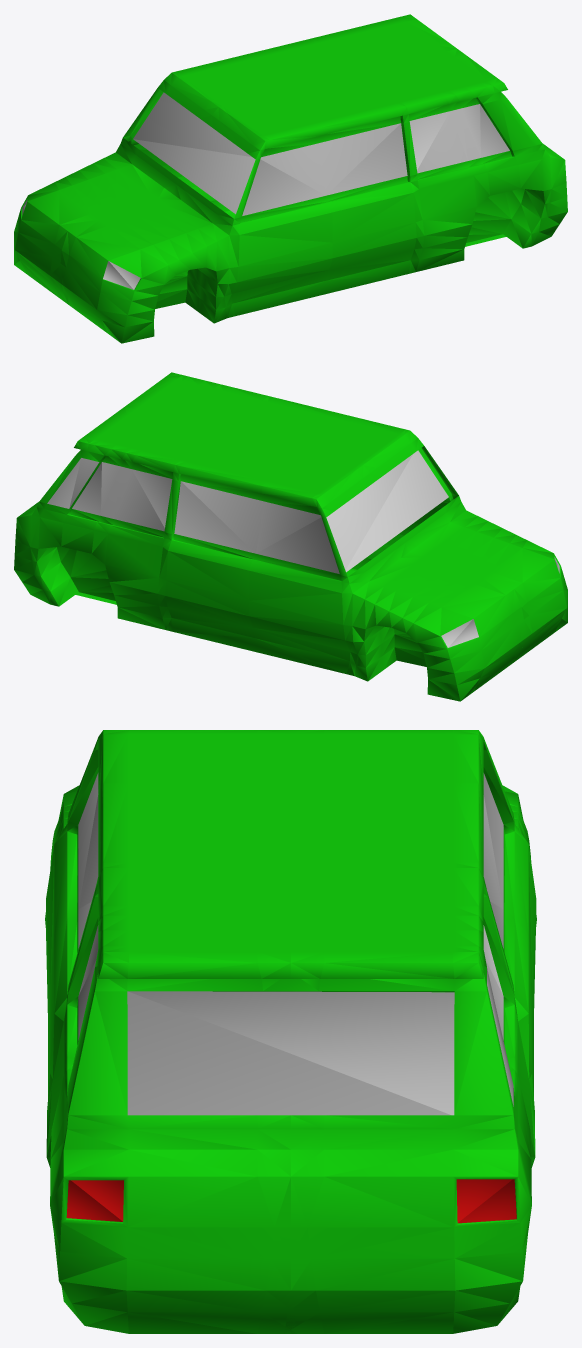
The model's file is voiture0.obj.
The picture shows the model from 3 angles, top to bottom: view 1: azimuth 30°, elevation 25°; view 2: azimuth 150°, elevation 25°; view 3: azimuth 270°, elevation 25°; orthographic projection. The views are drawn at different scales.
Visible parts, largest first — view 1: Cube; view 2: Cube; view 3: Cube.
Boxes of the visible parts, x1,y1,x2,y2 form: Cube: (14,14,567,343); Cube: (14,372,567,701); Cube: (45,730,536,1333).
Bounding box in the file's own units: 11.58 × 3.83 × 5.32.
